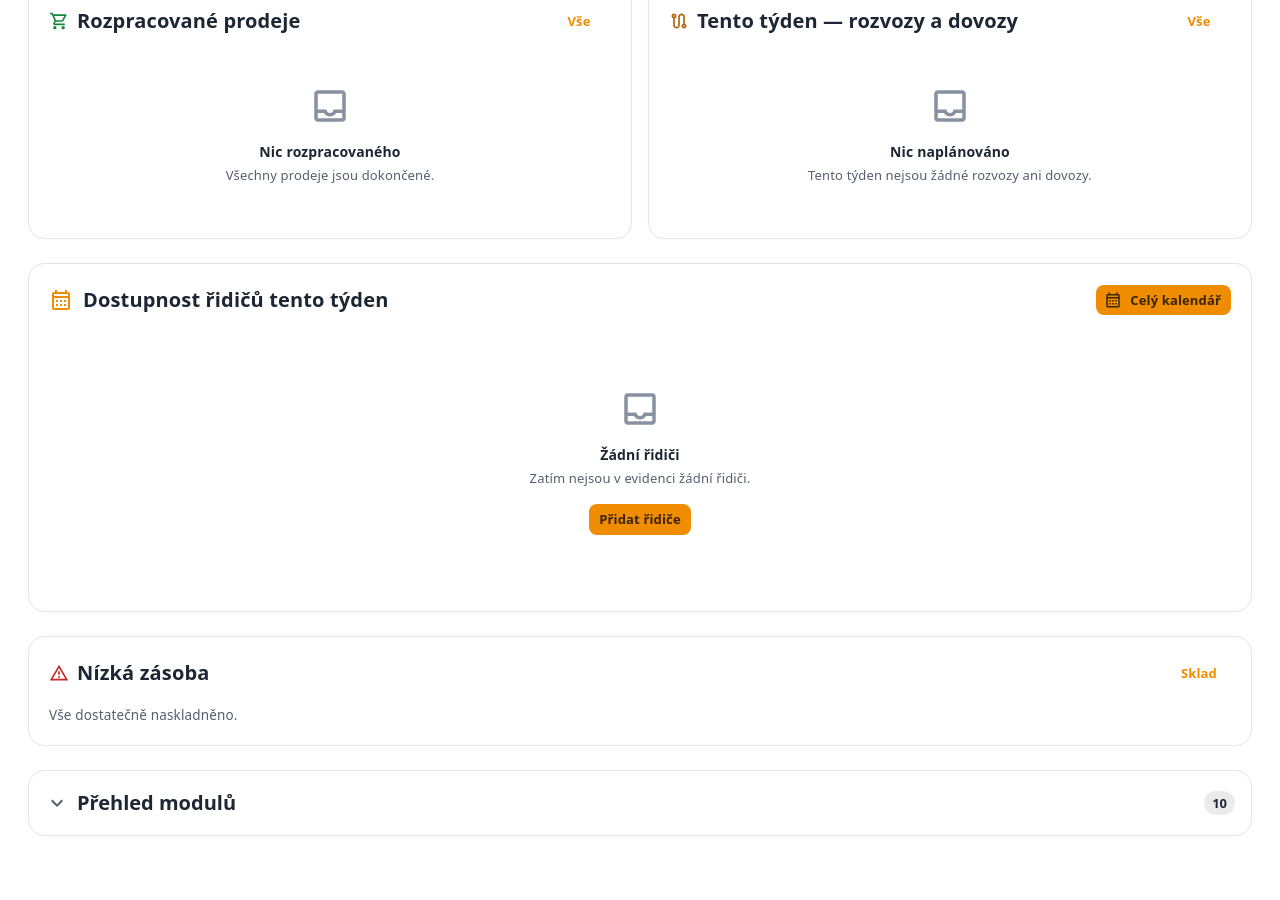
Test: DashboardPage module tiles › shows the toggle while the counts are still loading
(page scrolled)
What coordinates should you click on to do the following:
click the button "Přehled modulů 10"
I would click on:
 (157, 803)
Its box is [29,771,1251,835].
(page scrolled)
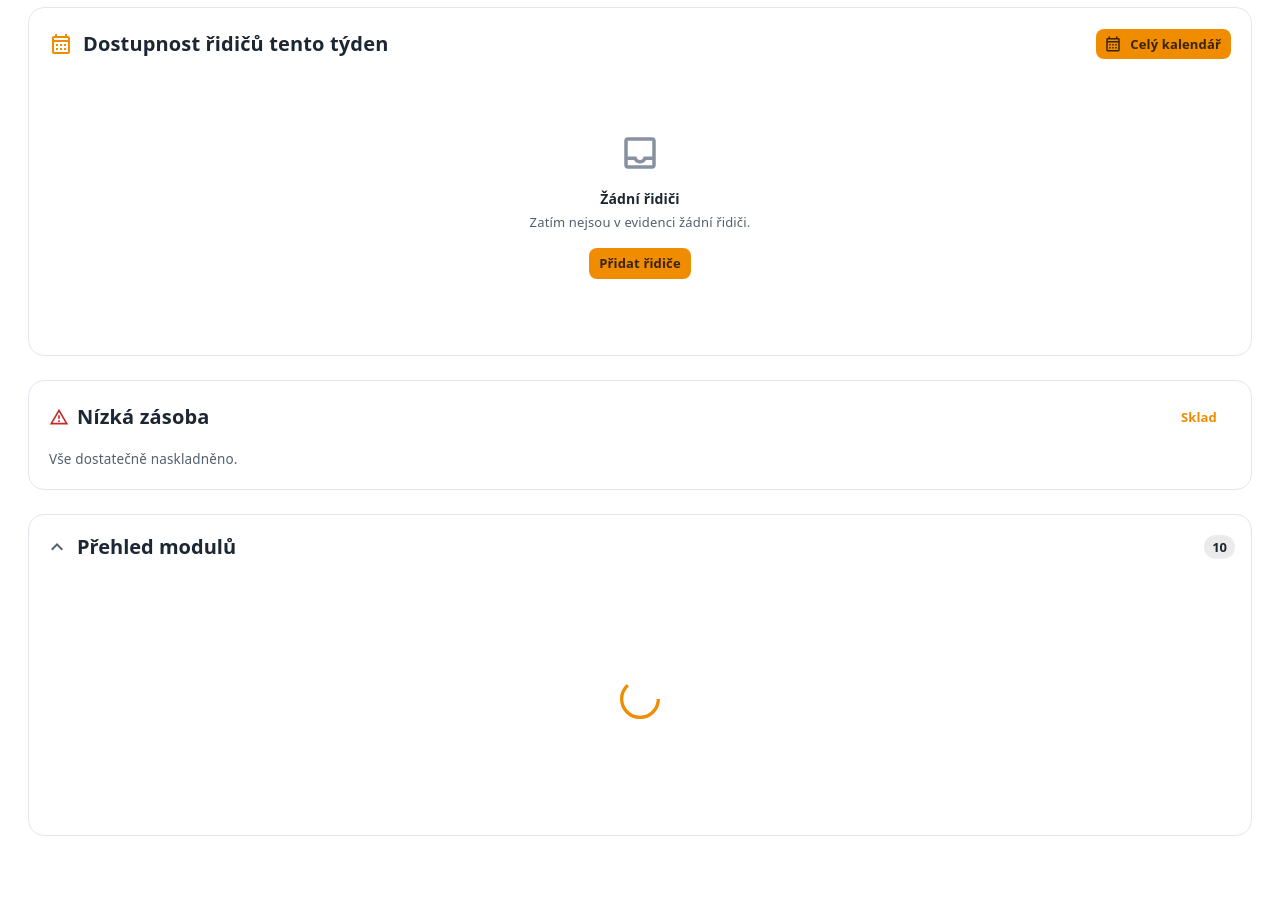
Result: the progress indicator is shown at [620,679,660,719]
